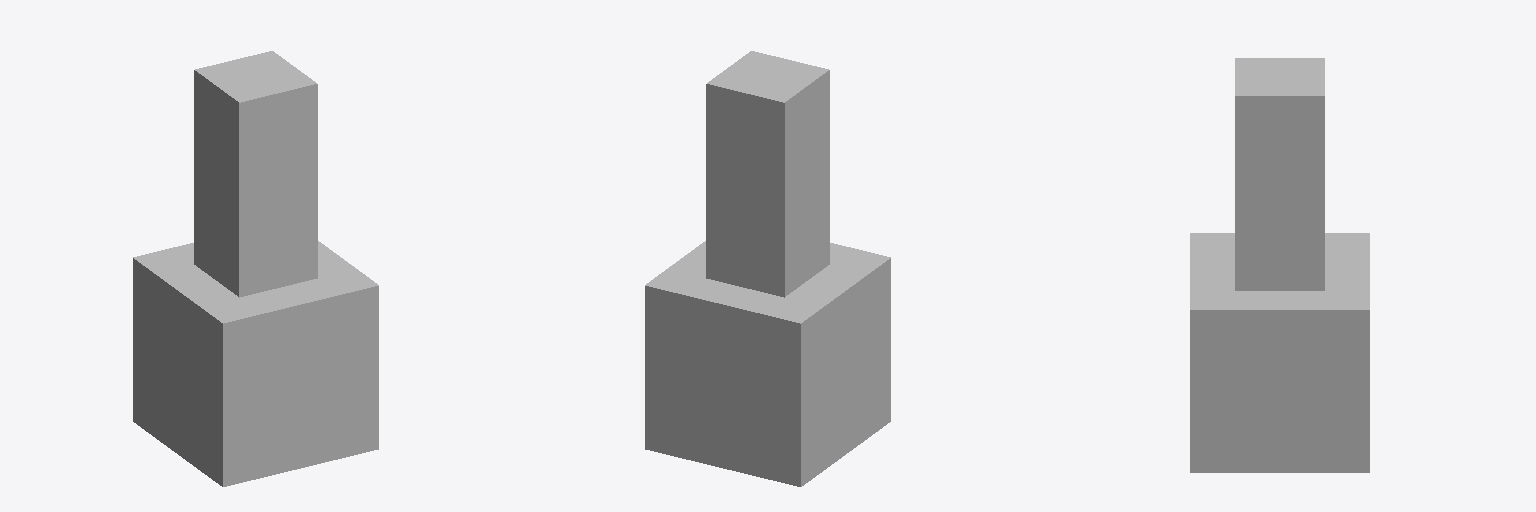
File: simple_building_two_cubes.obj
3 renders of one model, left to right at view 1: azimuth 30°, elevation 25°; view 2: azimuth 150°, elevation 25°; view 3: azimuth 270°, elevation 25°, orthographic.
Visible parts, largest first — view 1: Cube; view 2: Cube; view 3: Cube.
Boxes of the visible parts, <box> form: Cube: <box>133,51,378,486</box>; Cube: <box>645,51,890,486</box>; Cube: <box>1190,58,1369,472</box>.
Bounding box in the file's own units: 2 × 4.38 × 2.